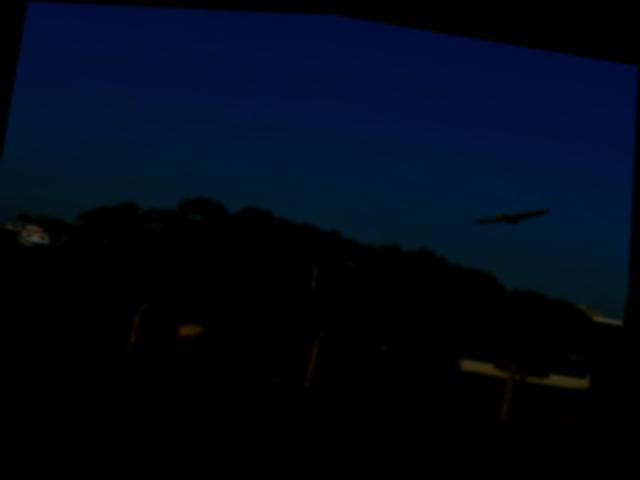iha: (475, 194, 550, 229)
